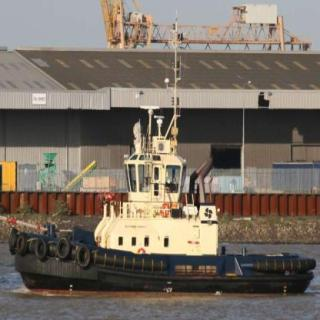Tug Boat: (18, 102, 309, 294)
